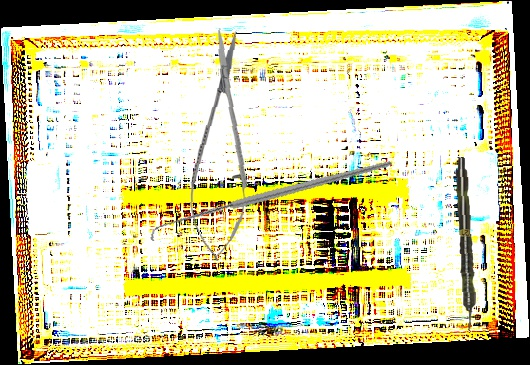Handpiece: (453, 156, 478, 332)
Hook Surgical: (147, 106, 395, 296)
Micro Scissor: (186, 27, 257, 263)
